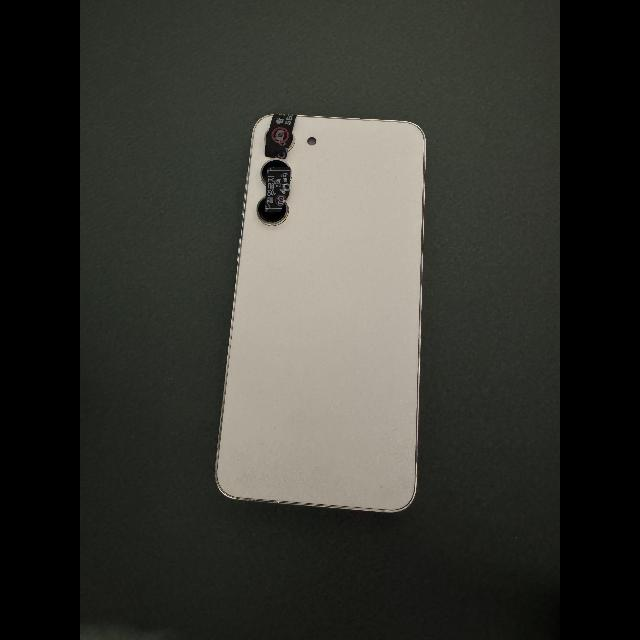lens: (258, 195, 287, 224), (262, 159, 291, 185), (289, 132, 294, 150)
phone: (216, 113, 426, 512)
sticker: (265, 113, 296, 159), (264, 167, 291, 213)
